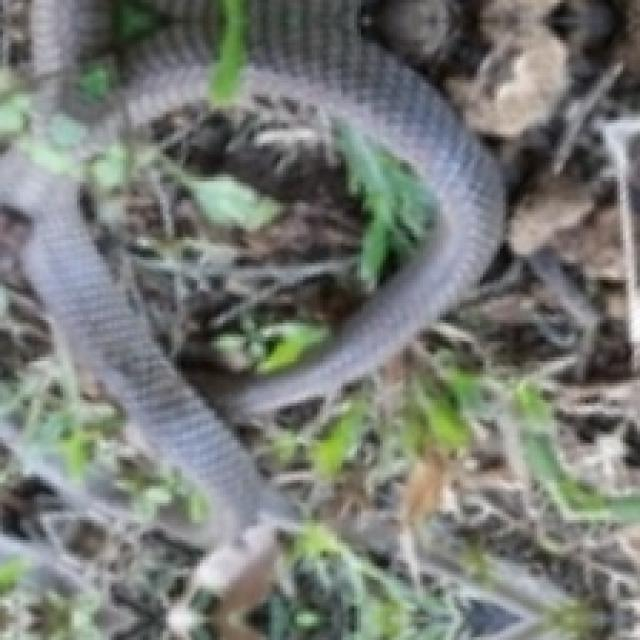paradise tree snake: (0, 0, 503, 637), (0, 149, 294, 543), (226, 0, 500, 411), (0, 423, 149, 629), (31, 0, 206, 154), (289, 600, 411, 631)
